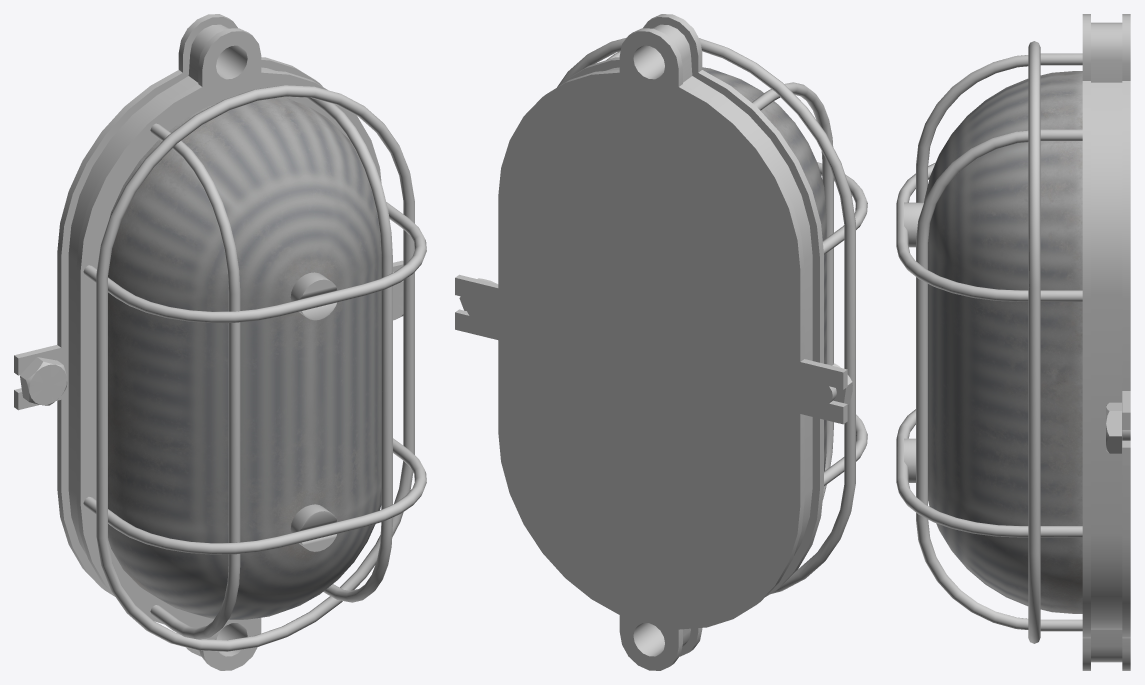
File: industrial_wall_lamp.obj
3 renders of one model, left to right at view 1: azimuth 30°, elevation 25°; view 2: azimuth 150°, elevation 25°; view 3: azimuth 270°, elevation 25°, orthographic.
Parts seen in each view (by area): view 1: industrial_wall_lamp_1, industrial_wall_lamp_0; view 2: industrial_wall_lamp_0, industrial_wall_lamp_1; view 3: industrial_wall_lamp_1, industrial_wall_lamp_0.
Boxes of the visible parts, x1,y1,x2,y2 form: industrial_wall_lamp_1: [108, 97, 381, 619]; industrial_wall_lamp_0: [14, 14, 426, 670]; industrial_wall_lamp_0: [455, 14, 867, 670]; industrial_wall_lamp_1: [702, 67, 826, 471]; industrial_wall_lamp_1: [924, 71, 1082, 613]; industrial_wall_lamp_0: [896, 14, 1130, 670].
Size of the model in its own units: 0.2735 by 0.4299 by 0.1404.
